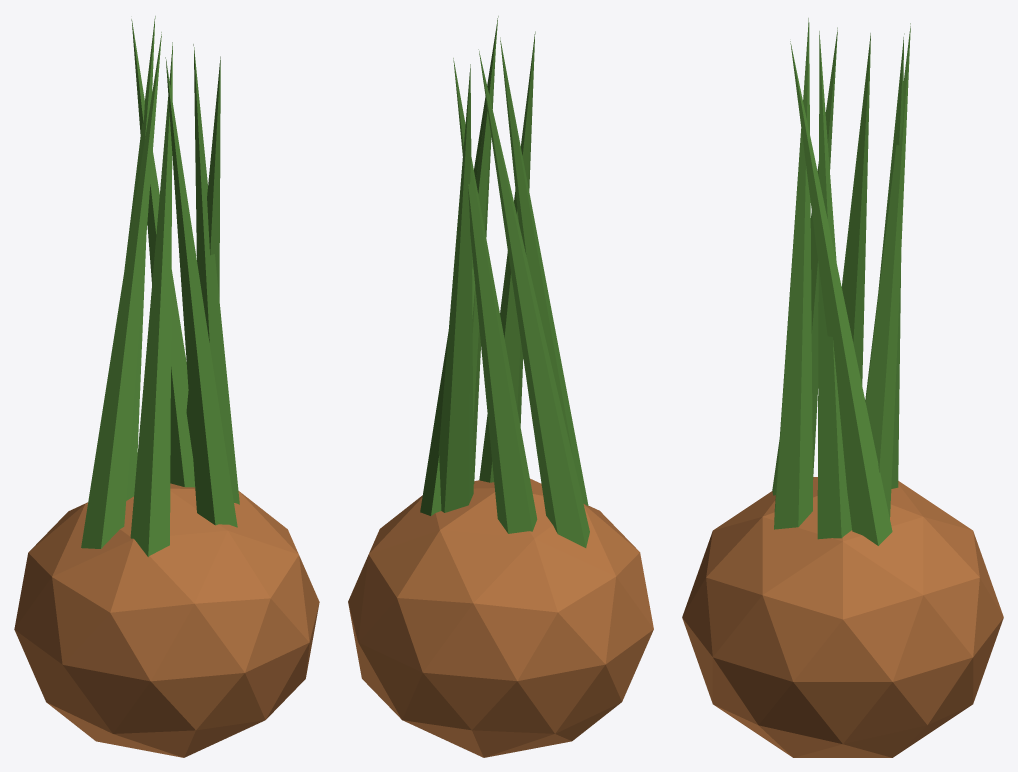
Rendered from ekin_sogan.glb.
3 renders of one model, left to right at view 1: azimuth 30°, elevation 25°; view 2: azimuth 150°, elevation 25°; view 3: azimuth 270°, elevation 25°, orthographic. The views are drawn at different scales.
Parts seen in each view (by area): view 1: Filiz; view 2: Filiz; view 3: Filiz.
Boxes of the visible parts, left/top/right/bottom form: Filiz: left=14, top=16, right=319, bottom=757; Filiz: left=348, top=16, right=653, bottom=757; Filiz: left=682, top=18, right=1003, bottom=757.
Bounding box in the file's own units: 0.0647 × 0.1693 × 0.068.
